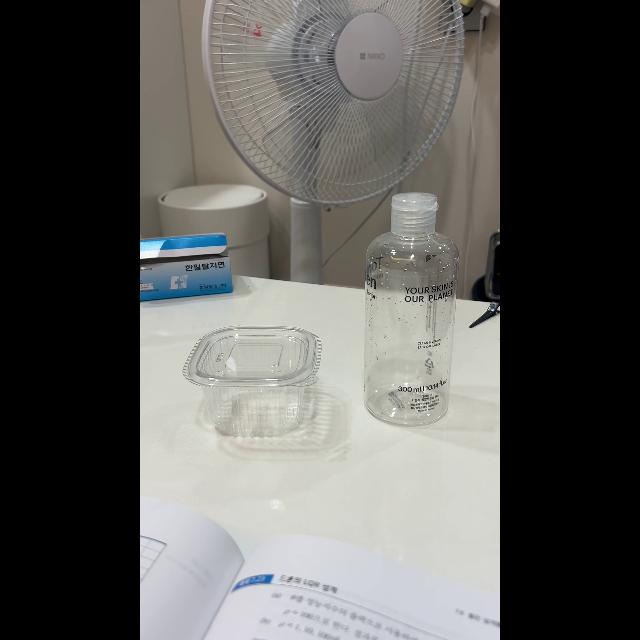clean: (363, 195, 459, 417), (184, 326, 324, 436)
